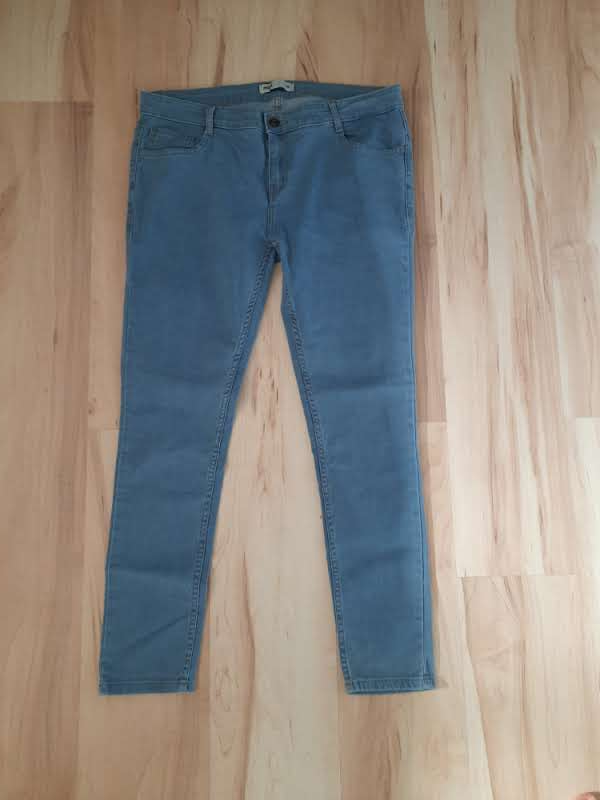clothes: (94, 84, 443, 702)
